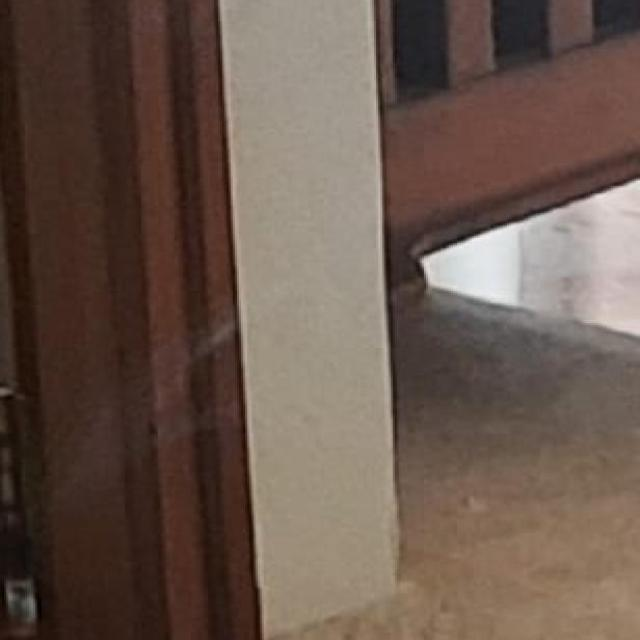fire: (46, 309, 591, 559)
